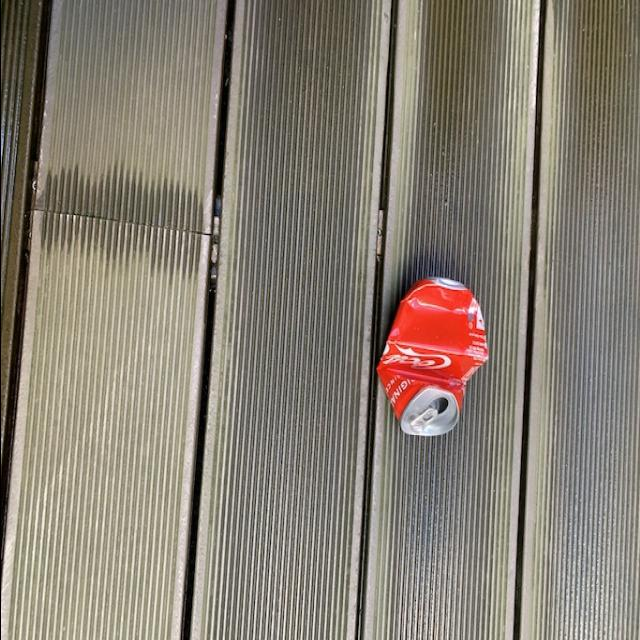litter: (370, 266, 488, 455)
